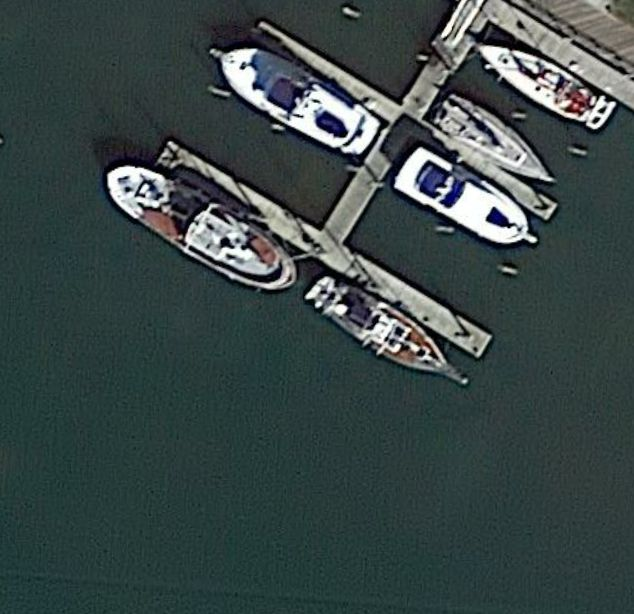boat: (100, 160, 298, 294), (206, 45, 383, 160), (305, 275, 473, 388), (392, 141, 536, 248), (427, 85, 557, 184), (474, 42, 609, 131)
